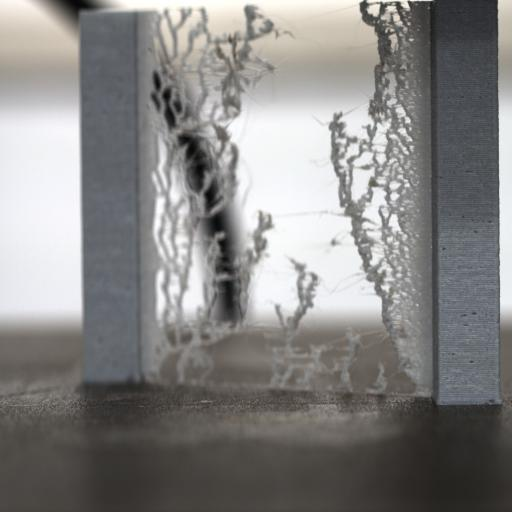stringing: (146, 5, 285, 343), (320, 4, 420, 390), (207, 8, 281, 117)
